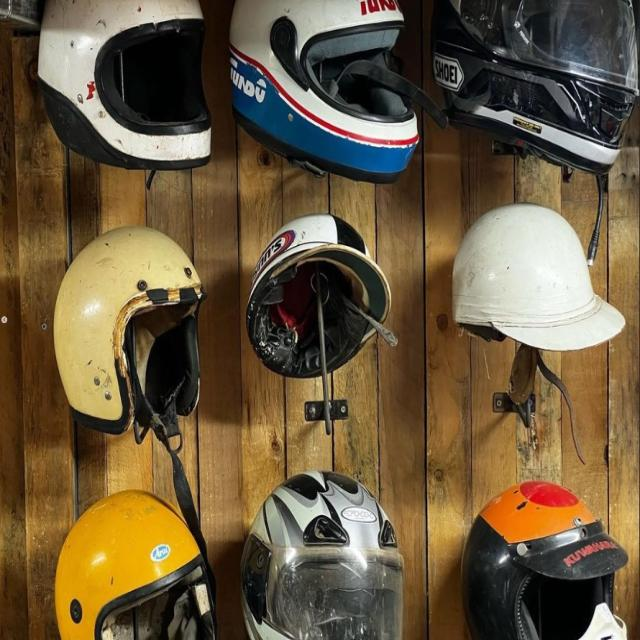helmet: (43, 216, 208, 461)
illegal_helmet: (442, 198, 632, 362), (236, 206, 396, 386)
